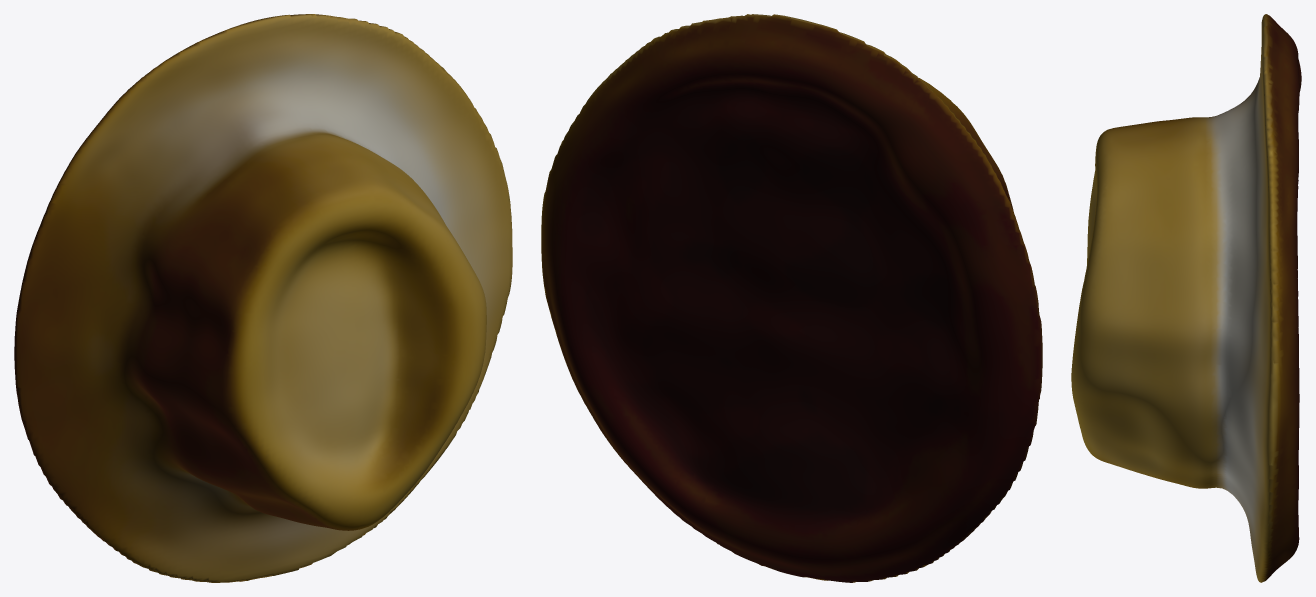
Rendered from hat.glb.
3 renders of one model, left to right at view 1: azimuth 30°, elevation 25°; view 2: azimuth 150°, elevation 25°; view 3: azimuth 270°, elevation 25°, orthographic. The views are drawn at different scales.
Size of the model in its own units: 0.9333 by 0.9967 by 0.4049.
